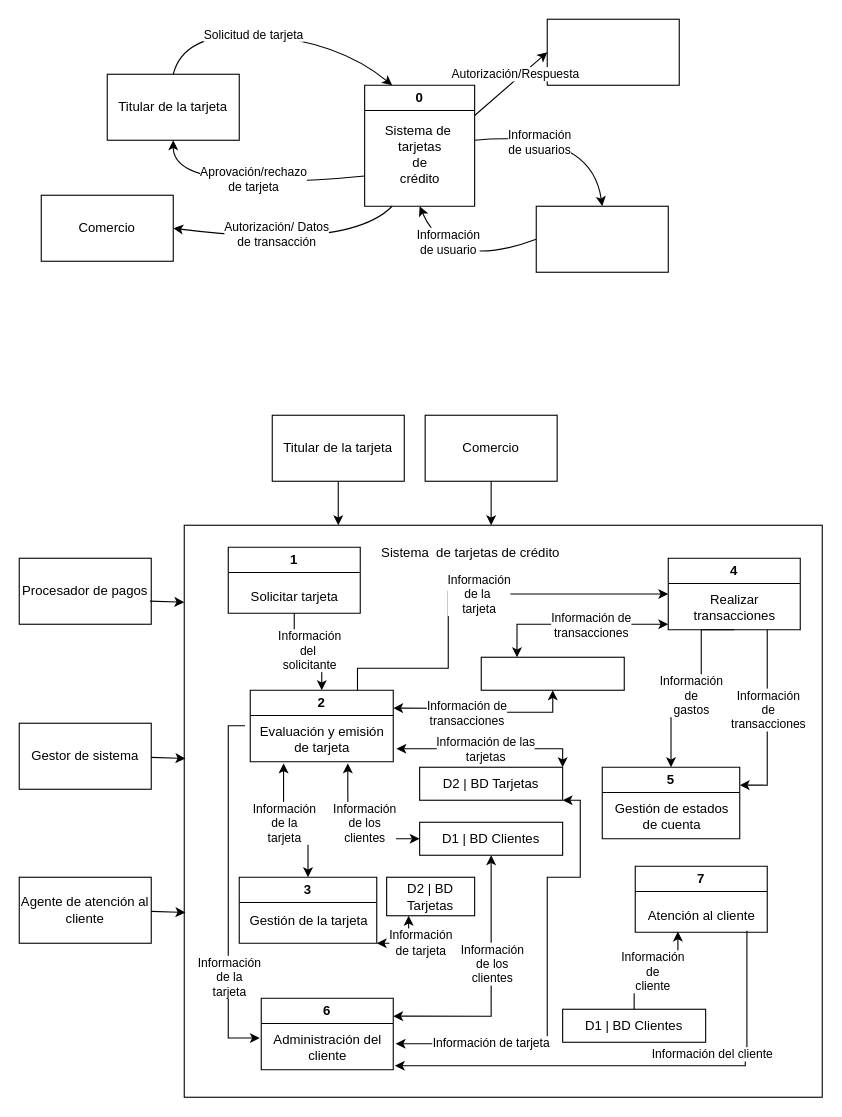
Image size: 842x1117. Some labels were removed from this diagram. Here are the shapes that lost their labels. From the top down, the centre of each, then its label:
(612,51): Banco emisor
(601,238): Administrador
(552,673): D3 | BD Transacciones
